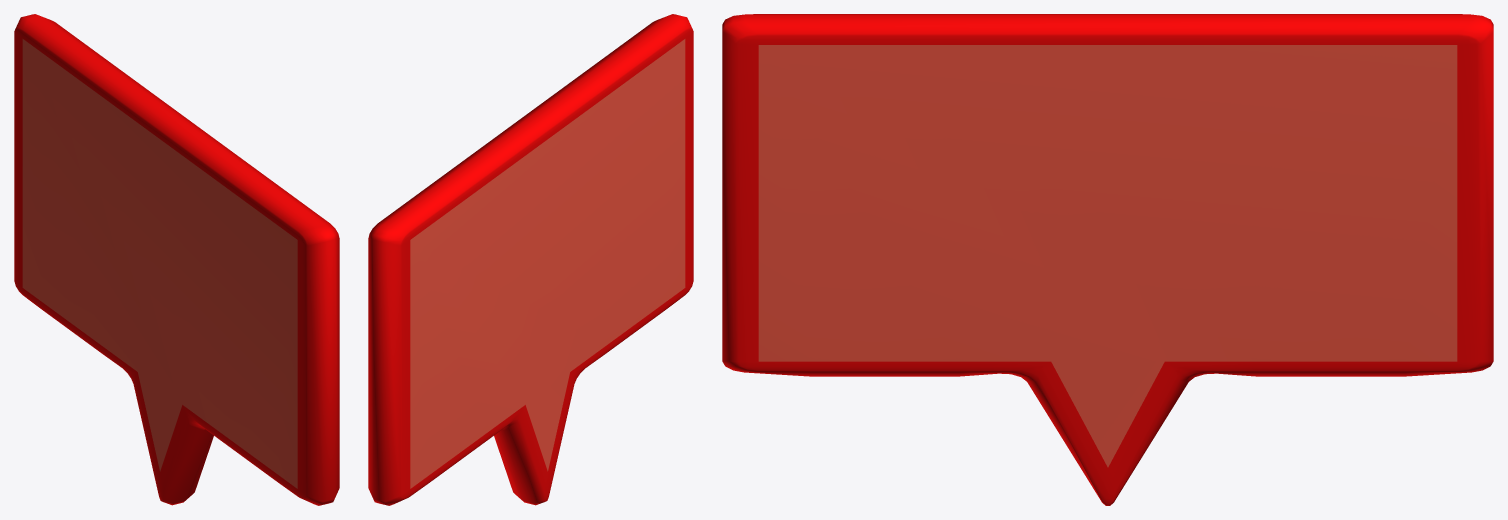
File: Tag_red.fbx
3 views of the same model, side by side, from view 1: azimuth 30°, elevation 25°; view 2: azimuth 150°, elevation 25°; view 3: azimuth 270°, elevation 25° (orthographic). The views are drawn at different scales.
Parts seen in each view (by area): view 1: ballon; view 2: ballon; view 3: ballon.
Part boxes in pixels (x1=…): ballon: x1=14, y1=14, x2=339, y2=505; ballon: x1=368, y1=14, x2=693, y2=505; ballon: x1=722, y1=14, x2=1493, y2=505.
Bounding box in the file's own units: 2 × 21.57 × 31.13.
